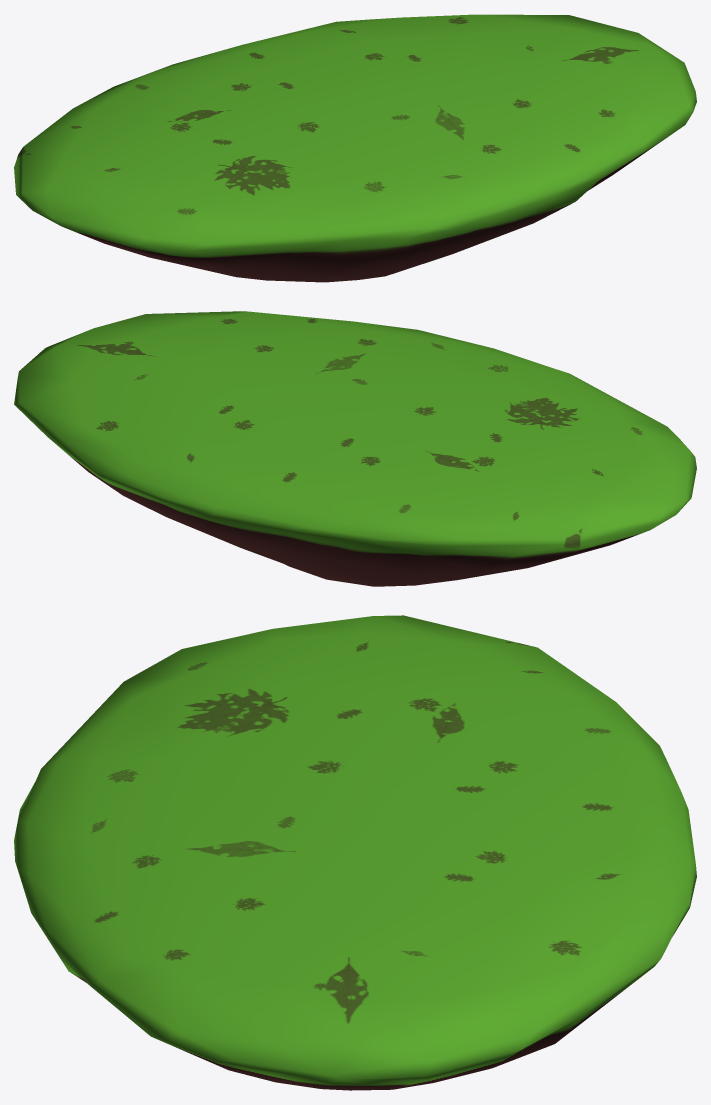
Rendered from landpiece.glb.
3 renders of one model, top to bottom at view 1: azimuth 30°, elevation 25°; view 2: azimuth 150°, elevation 25°; view 3: azimuth 270°, elevation 25°, orthographic. The views are drawn at different scales.
Visible parts, largest first — view 1: geo1; view 2: geo1; view 3: geo1.
Part boxes in pixels (x1=…): geo1: x1=14, y1=14, x2=696, y2=282; geo1: x1=14, y1=311, x2=696, y2=586; geo1: x1=14, y1=615, x2=696, y2=1090.
Bounding box in the file's own units: 0.0301 × 0.00711 × 0.0191.
Materials: 1 (1 with a texture image).
